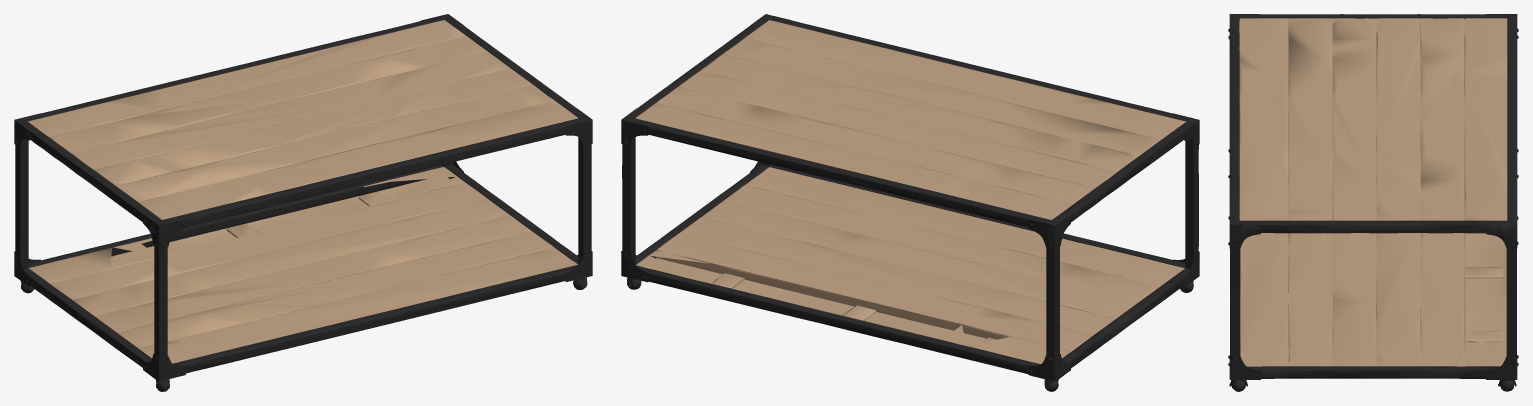
Rendered from beltzhoover.fbx.
3 views of the same model, side by side, from view 1: azimuth 30°, elevation 25°; view 2: azimuth 150°, elevation 25°; view 3: azimuth 270°, elevation 25° (orthographic).
Parts seen in each view (by area): view 1: Component1, Component4_1; view 2: Component1, Component4_1; view 3: Component1, Component4_1.
Part boxes in pixels (left/top/right/bottom): Component1: left=28, top=20, right=578, bottom=363; Component4_1: left=14, top=14, right=592, bottom=391; Component1: left=635, top=20, right=1186, bottom=363; Component4_1: left=621, top=14, right=1199, bottom=391; Component1: left=1239, top=18, right=1507, bottom=366; Component4_1: left=1228, top=14, right=1518, bottom=391.
Bounding box in the file's own units: 45.28 × 16.99 × 26.23.
